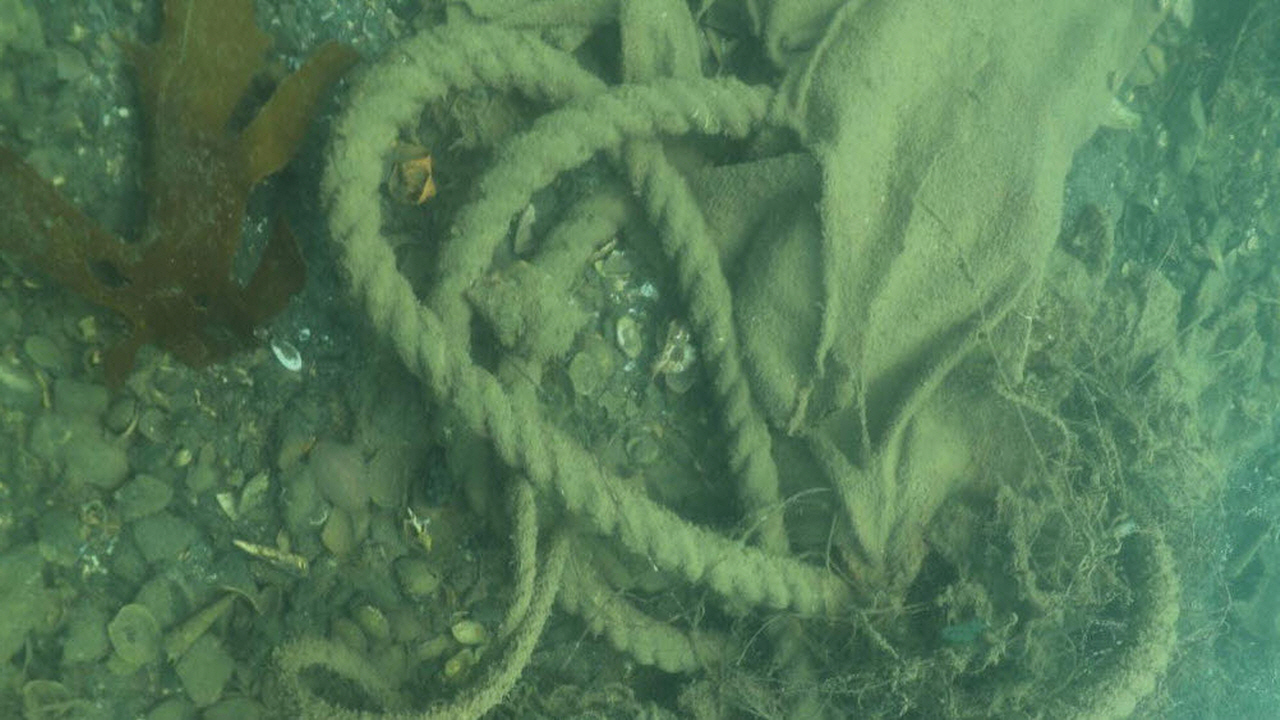bundle of ropes: (265, 19, 854, 720)
rope: (1050, 482, 1187, 720)
